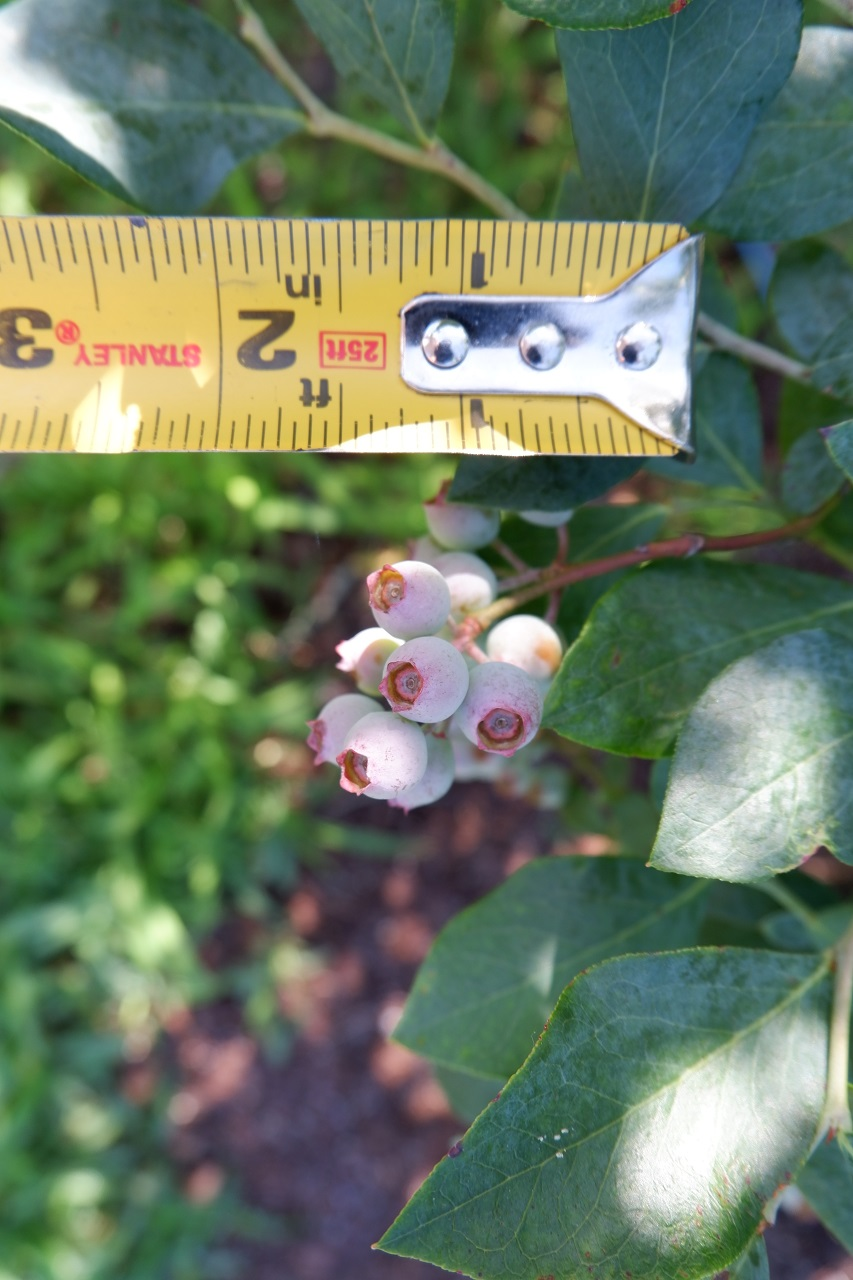Immature: (453, 662, 544, 760), (336, 711, 429, 800), (379, 637, 470, 723), (366, 561, 452, 640), (422, 479, 503, 552), (304, 693, 385, 766), (387, 732, 456, 816), (335, 627, 410, 699), (487, 615, 563, 683), (431, 551, 500, 623), (407, 532, 460, 565), (517, 510, 577, 527)
